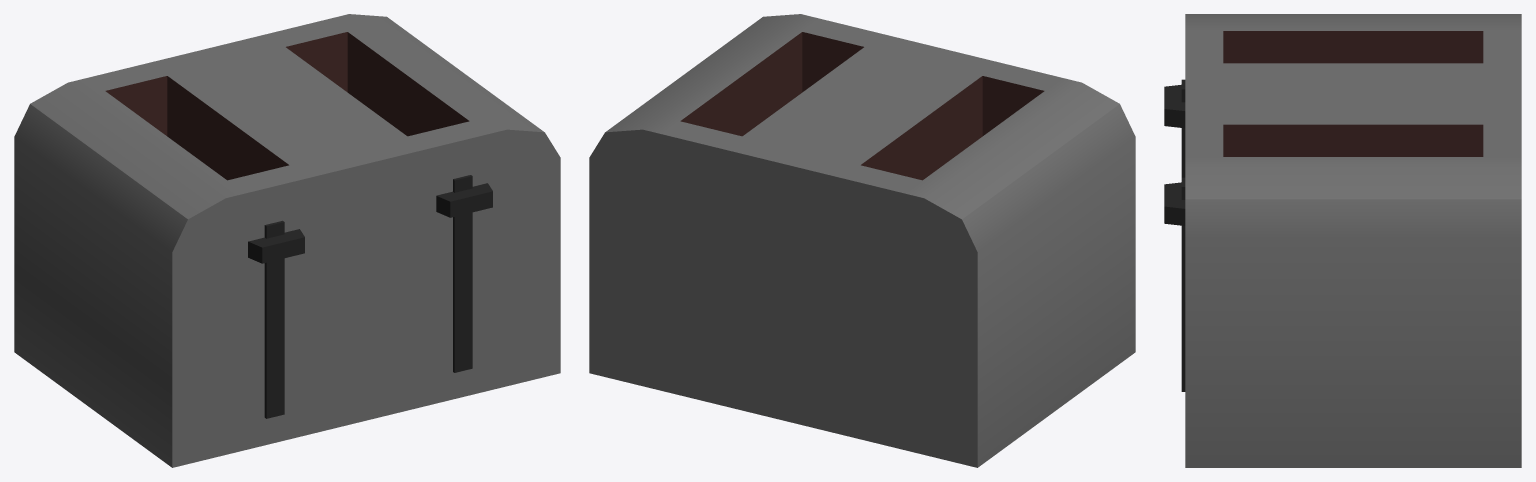
Rendered from toaster.fbx.
The picture shows the model from 3 angles, left to right: view 1: azimuth 30°, elevation 25°; view 2: azimuth 150°, elevation 25°; view 3: azimuth 270°, elevation 25°; orthographic projection. The views are drawn at different scales.
Parts seen in each view (by area): view 1: Toaster; view 2: Toaster; view 3: Toaster.
Part boxes in pixels (<box>): Toaster: <box>14,14,560,467</box>; Toaster: <box>589,14,1135,467</box>; Toaster: <box>1164,14,1521,467</box>.
Bounding box in the file's own units: 41.49 × 31.04 × 26.21.
